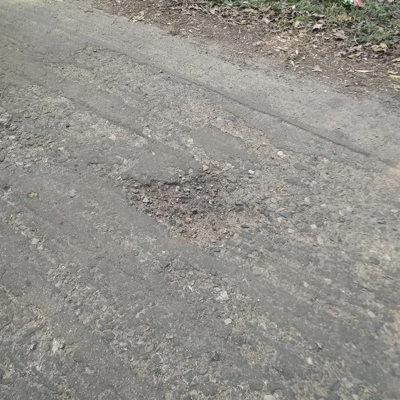pothole: (125, 173, 270, 248)
